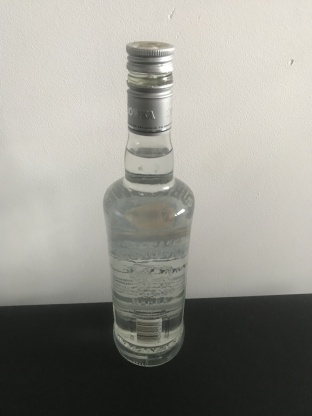nakretka: (124, 39, 175, 136)
